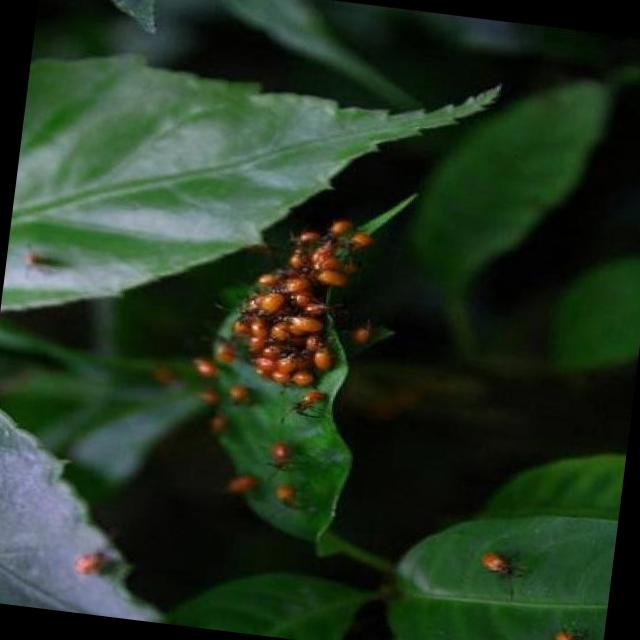aphid: (472, 544, 526, 581), (259, 433, 300, 474), (290, 388, 330, 422), (320, 214, 360, 246), (24, 247, 66, 273), (275, 483, 310, 512), (224, 472, 257, 498), (286, 314, 324, 336), (253, 290, 284, 315), (315, 267, 349, 288), (310, 244, 334, 270), (191, 356, 217, 378), (312, 346, 334, 372), (272, 354, 298, 376), (547, 625, 584, 640), (213, 341, 237, 364), (287, 248, 309, 272), (74, 553, 98, 575), (284, 276, 310, 296), (252, 354, 278, 374), (227, 384, 250, 406), (269, 320, 292, 342), (248, 318, 268, 341), (296, 229, 322, 246), (290, 368, 314, 386), (352, 324, 371, 344), (291, 292, 313, 309), (260, 344, 282, 361), (302, 301, 326, 316), (256, 272, 278, 288), (304, 334, 321, 354), (231, 318, 249, 336), (200, 389, 218, 406), (342, 260, 359, 276), (24, 252, 41, 266)
